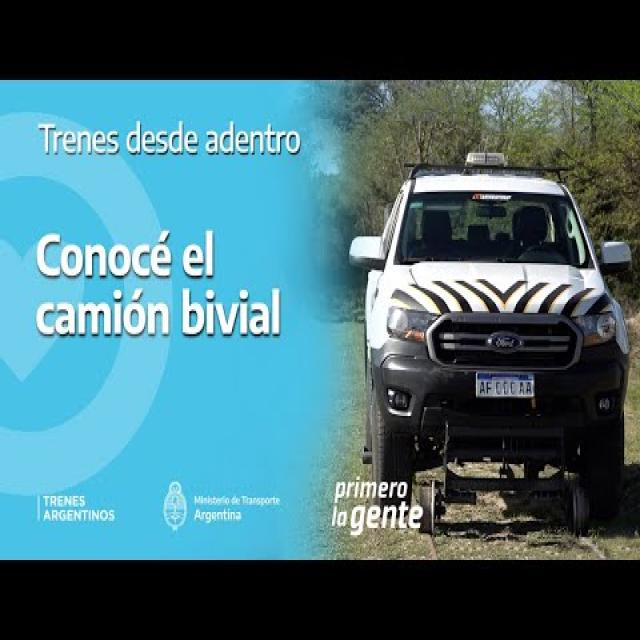CMT: (354, 161, 638, 523)
